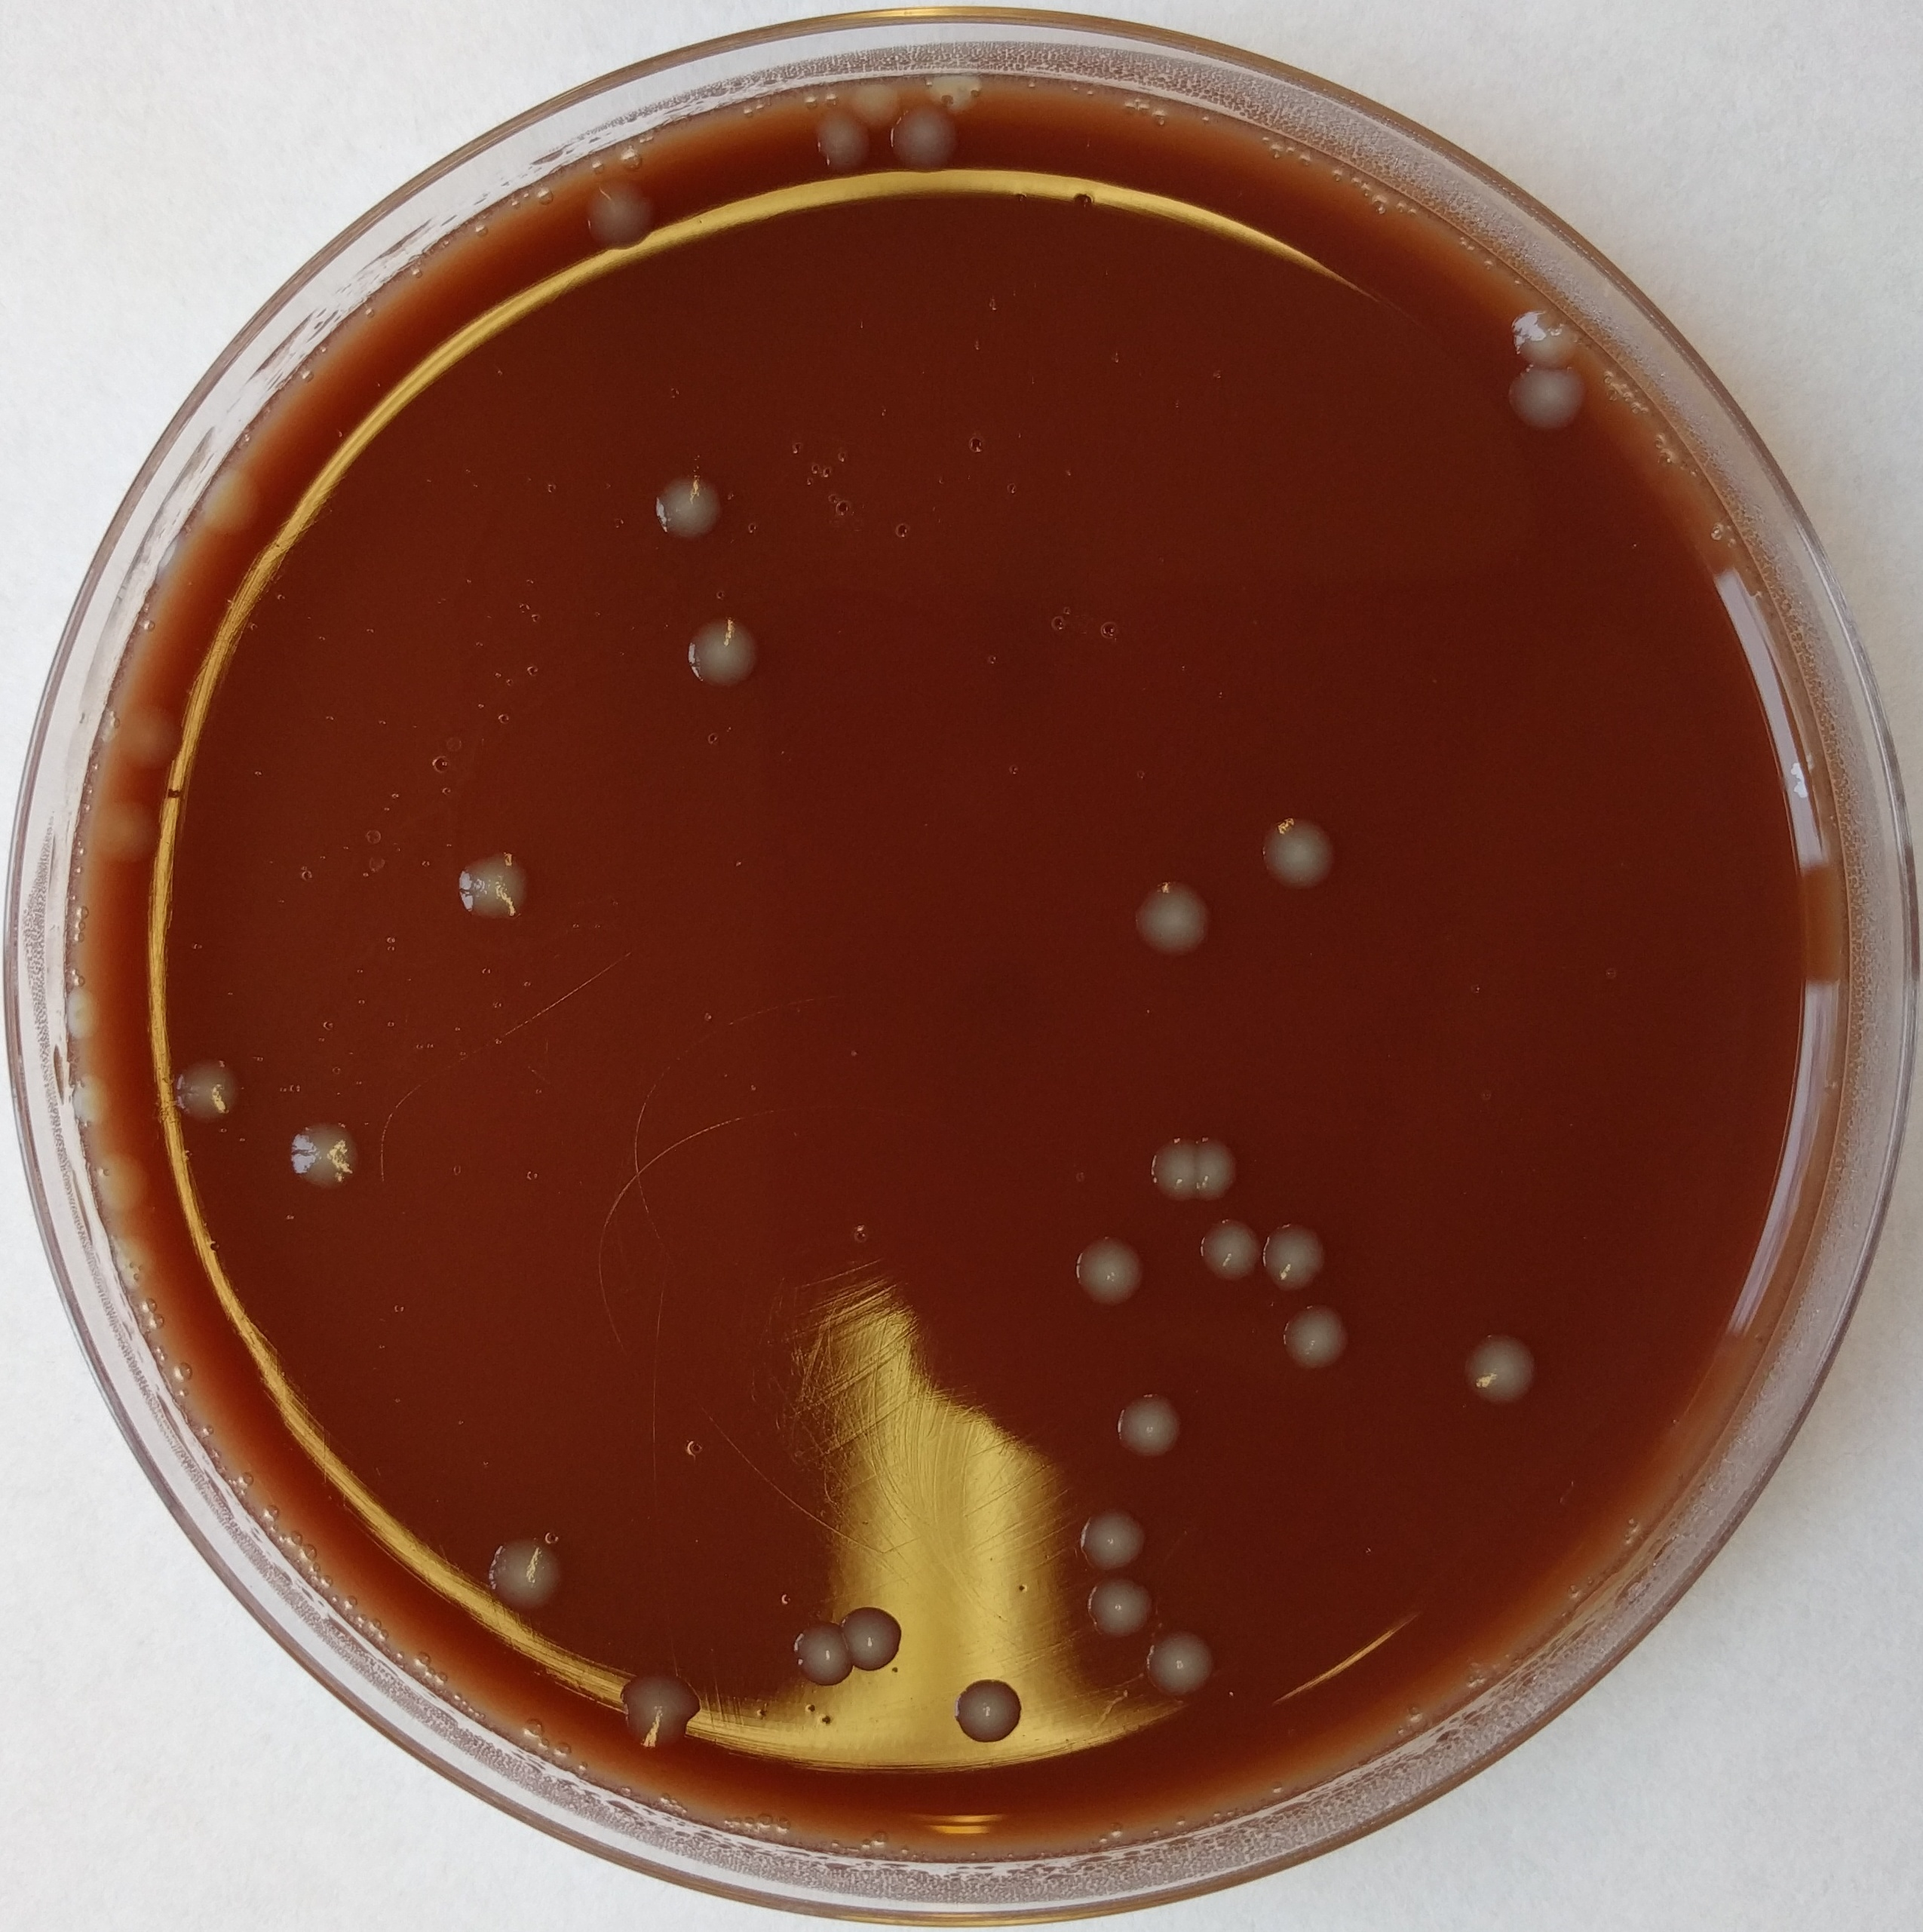sp02: (1099, 845, 1217, 974), (1241, 789, 1347, 903), (1044, 1203, 1157, 1309), (1465, 1316, 1555, 1421), (474, 1530, 572, 1622), (615, 1664, 706, 1759), (160, 1043, 252, 1134), (641, 458, 736, 546), (1252, 1210, 1340, 1302), (1122, 1125, 1208, 1219), (454, 845, 535, 940), (183, 461, 276, 539), (81, 787, 169, 868), (1509, 298, 1588, 384), (113, 689, 190, 777), (1502, 358, 1592, 433), (280, 1122, 373, 1194), (682, 615, 766, 694), (1189, 1210, 1277, 1286), (578, 174, 669, 247), (942, 1680, 1037, 1749), (1145, 1627, 1231, 1701), (1085, 1573, 1171, 1643), (1197, 1125, 1264, 1215), (1111, 1379, 1187, 1455), (888, 97, 960, 176), (1286, 1300, 1354, 1381), (41, 970, 113, 1046), (1069, 1502, 1153, 1566), (85, 1141, 157, 1213), (99, 1219, 171, 1287), (844, 1601, 907, 1678), (812, 100, 873, 180), (784, 1610, 840, 1696), (65, 1060, 120, 1134), (865, 63, 919, 122)
